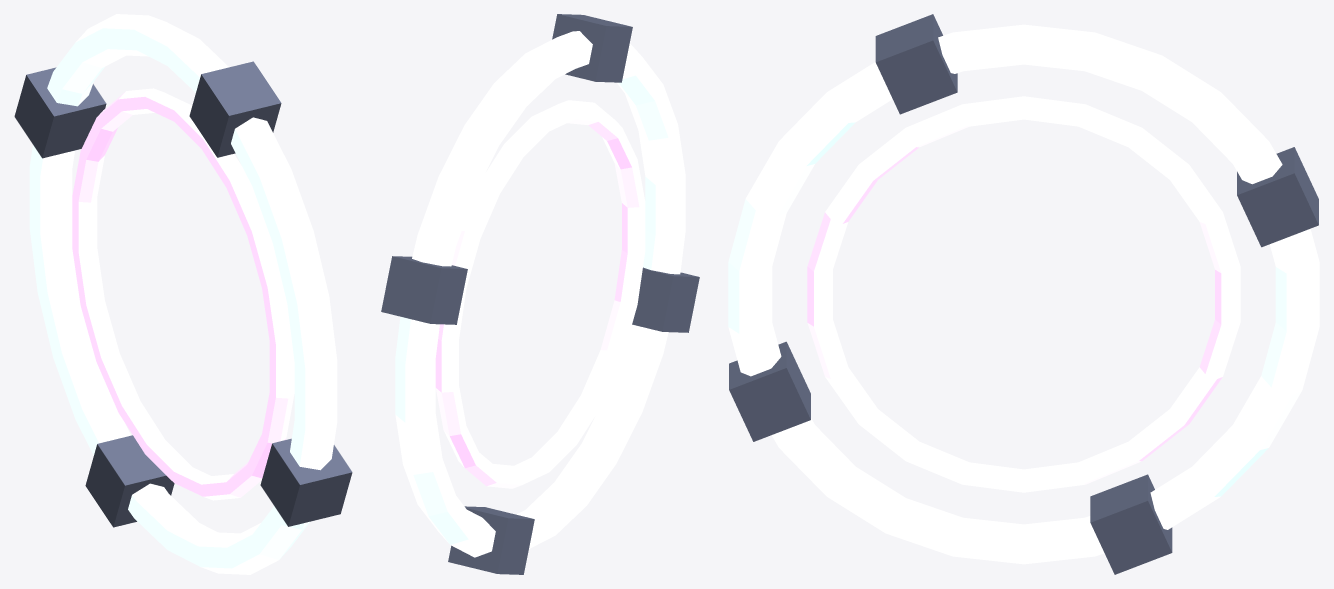
File: portal.glb
The picture shows the model from 3 angles, left to right: view 1: azimuth 30°, elevation 25°; view 2: azimuth 150°, elevation 25°; view 3: azimuth 270°, elevation 25°; orthographic projection. The views are drawn at different scales.
Parts seen in each view (by area): view 1: portal; view 2: portal; view 3: portal.
Boxes of the visible parts, x1,y1,x2,y2 form: portal: (14,14,352,574); portal: (381,14,699,574); portal: (728,14,1319,574).
Size of the model in its own units: 0.34 by 3.24 by 3.22.
